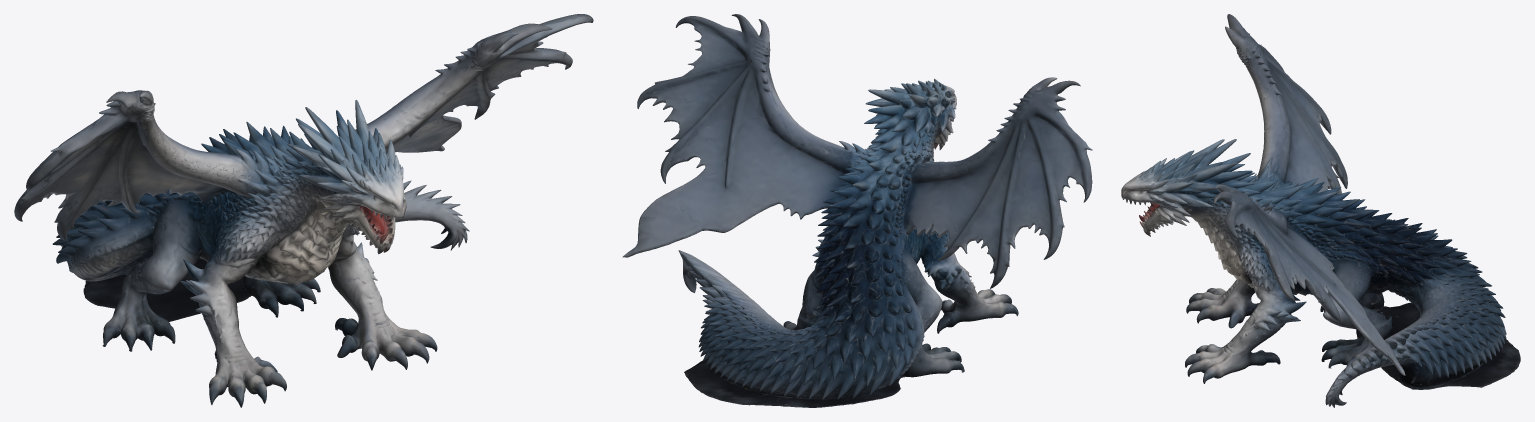
Rendered from young_white_dragon.glb.
3 views of the same model, side by side, from view 1: azimuth 30°, elevation 25°; view 2: azimuth 150°, elevation 25°; view 3: azimuth 270°, elevation 25° (orthographic). The views are drawn at different scales.
Parts seen in each view (by area): view 1: material; view 2: material; view 3: material.
Part boxes in pixels (box(x1,y1,x2,y2)): material: box(14, 14, 593, 407); material: box(622, 14, 1092, 407); material: box(1121, 14, 1520, 407).
Size of the model in its own units: 1.1 by 0.6105 by 0.8766.
Materials: 1 (1 with a texture image).
